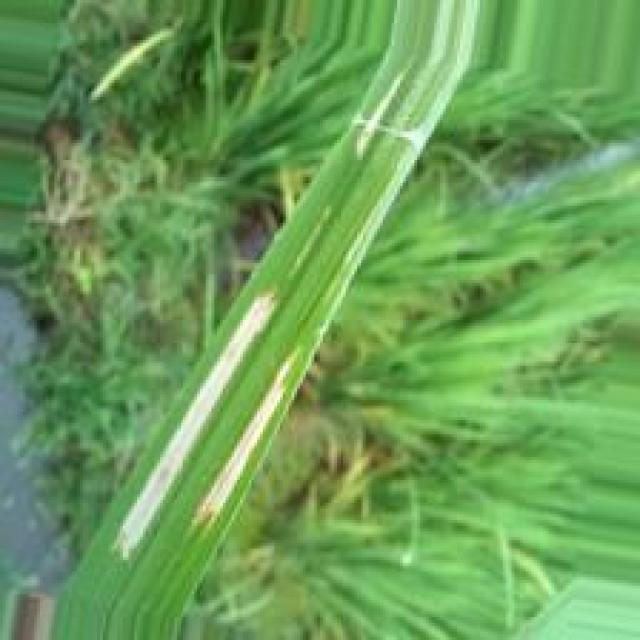Rice_Hispa: (335, 0, 486, 295), (110, 293, 274, 558), (196, 353, 294, 522)
